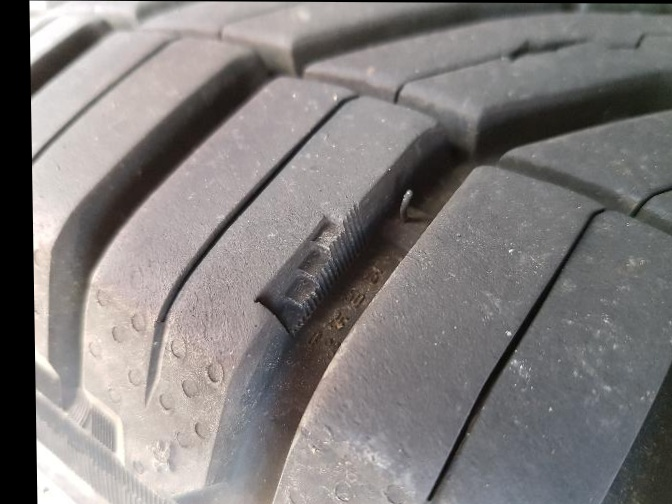temoin:90: (246, 195, 375, 350)
